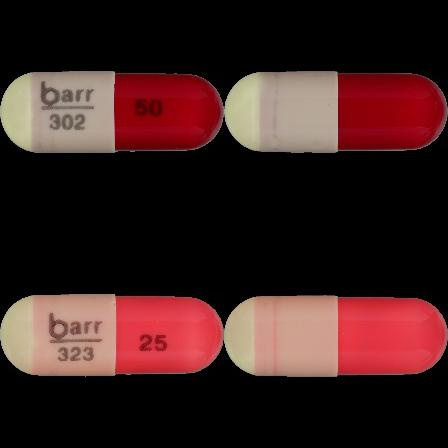0555-0302: (0, 0, 224, 224)
